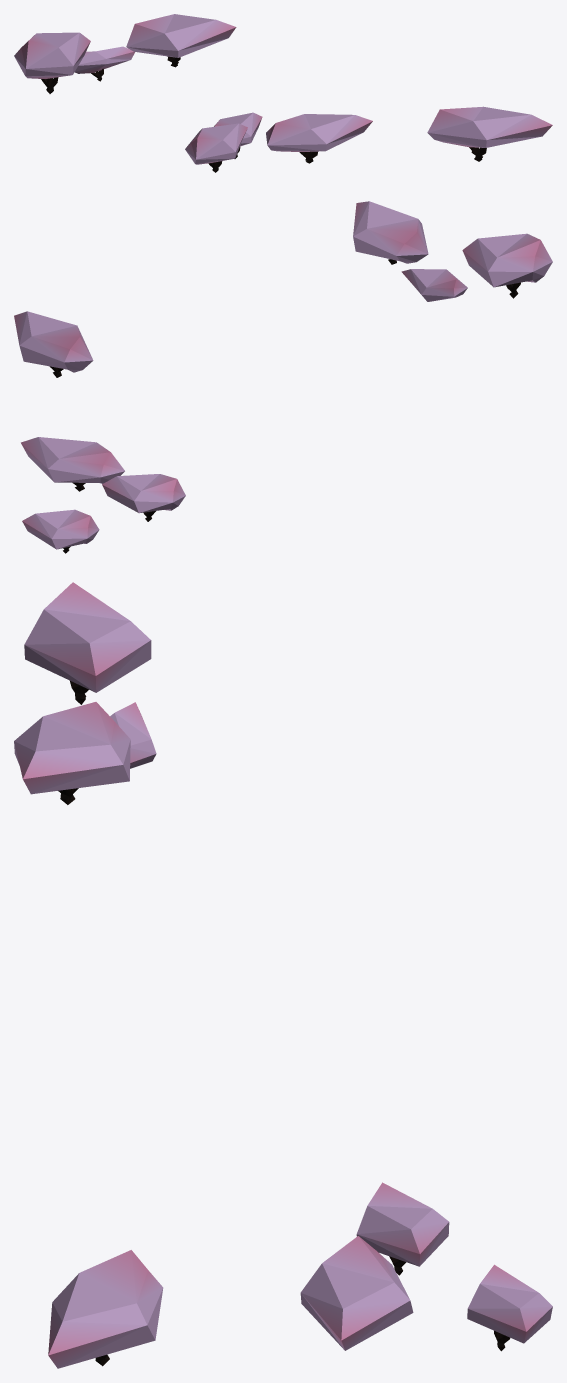
Rendered from c_trees_cherry_volcano.fbx.
3 views of the same model, one above another, from view 1: azimuth 30°, elevation 25°; view 2: azimuth 150°, elevation 25°; view 3: azimuth 270°, elevation 25° (orthographic). The views are drawn at different scales.
Parts seen in each view (by area): view 1: c_trees_cherry_volcano; view 2: c_trees_cherry_volcano; view 3: c_trees_cherry_volcano.
Boxes of the visible parts, bbox=[...] form: c_trees_cherry_volcano: bbox=[14, 14, 552, 172]; c_trees_cherry_volcano: bbox=[14, 201, 552, 553]; c_trees_cherry_volcano: bbox=[14, 582, 552, 1368].
Bounding box in the file's own units: 58.76 × 31.3 × 30.93.
